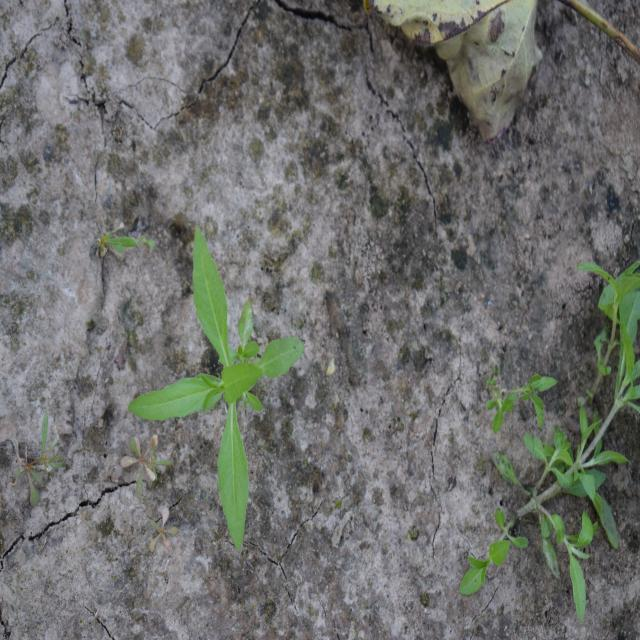Carpetweed: (7, 409, 66, 508), (120, 431, 174, 496), (147, 505, 178, 553)
Eclipta: (459, 259, 639, 625), (127, 223, 306, 555)
